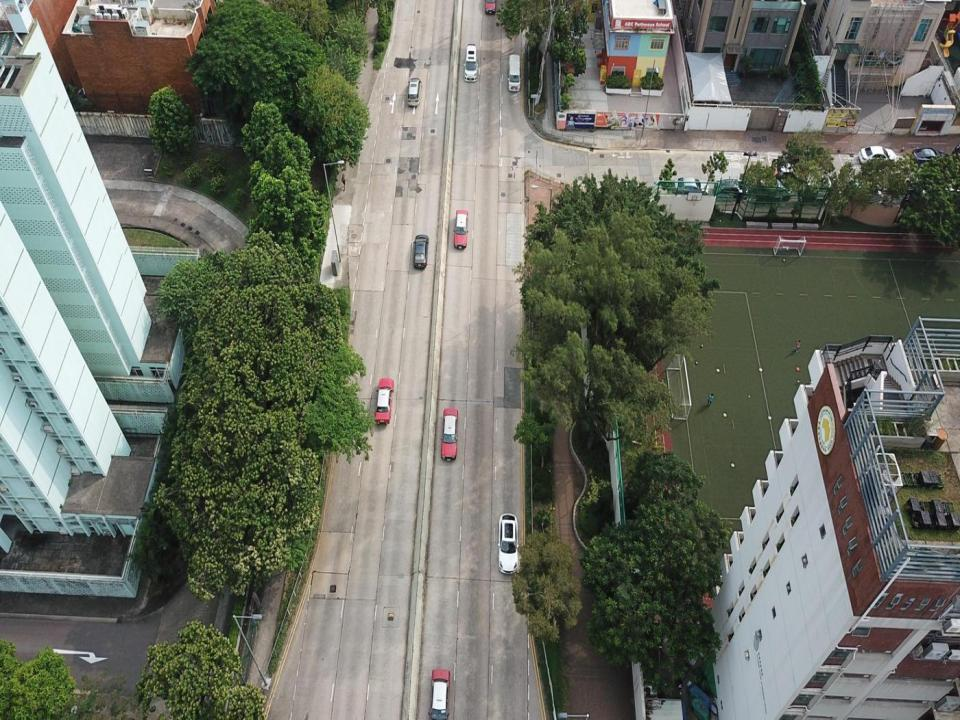car: (497, 512, 520, 574), (794, 174, 837, 200), (664, 176, 709, 200), (430, 670, 450, 719), (441, 408, 458, 461), (769, 159, 805, 183), (375, 379, 393, 426), (858, 145, 896, 167), (713, 178, 750, 200), (454, 209, 469, 249), (914, 148, 948, 165), (414, 232, 428, 271), (405, 77, 420, 105), (483, 0, 495, 17)
van: (753, 177, 792, 202), (464, 42, 479, 83), (508, 53, 521, 90)
